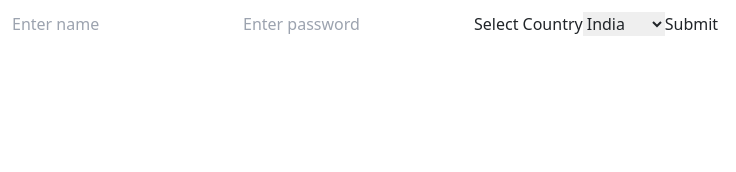
it: Test FormUserEvent › Name not match regex
Type "123" into the field with placeholder "Enter name" at (128, 24), box [12, 12, 243, 36]
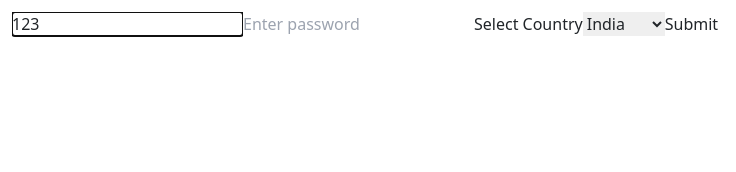
Type "456" into the field with placeholder "Enter password" at (358, 24), box [243, 12, 474, 36]
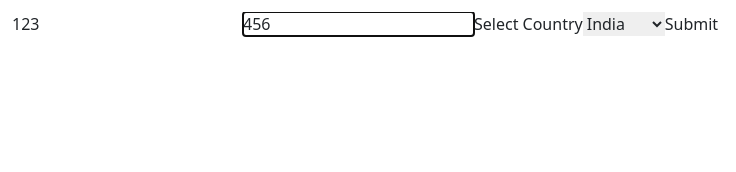
Select "India" in the dropdown labelled "Select Country" at (624, 24), box [583, 12, 665, 36]
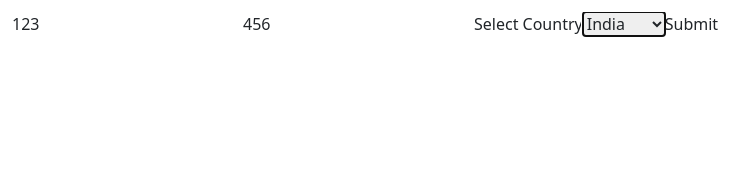
Click the button "Submit" at (691, 24), box [665, 12, 718, 36]
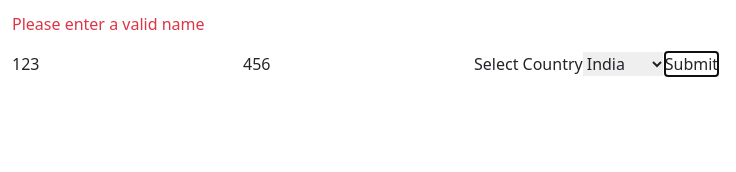
Now the text "Please enter a valid name" is shown, box [12, 13, 204, 35]
